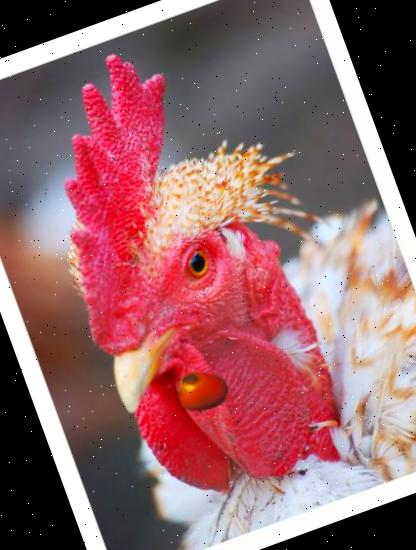Kaki: (167, 358, 236, 427)
